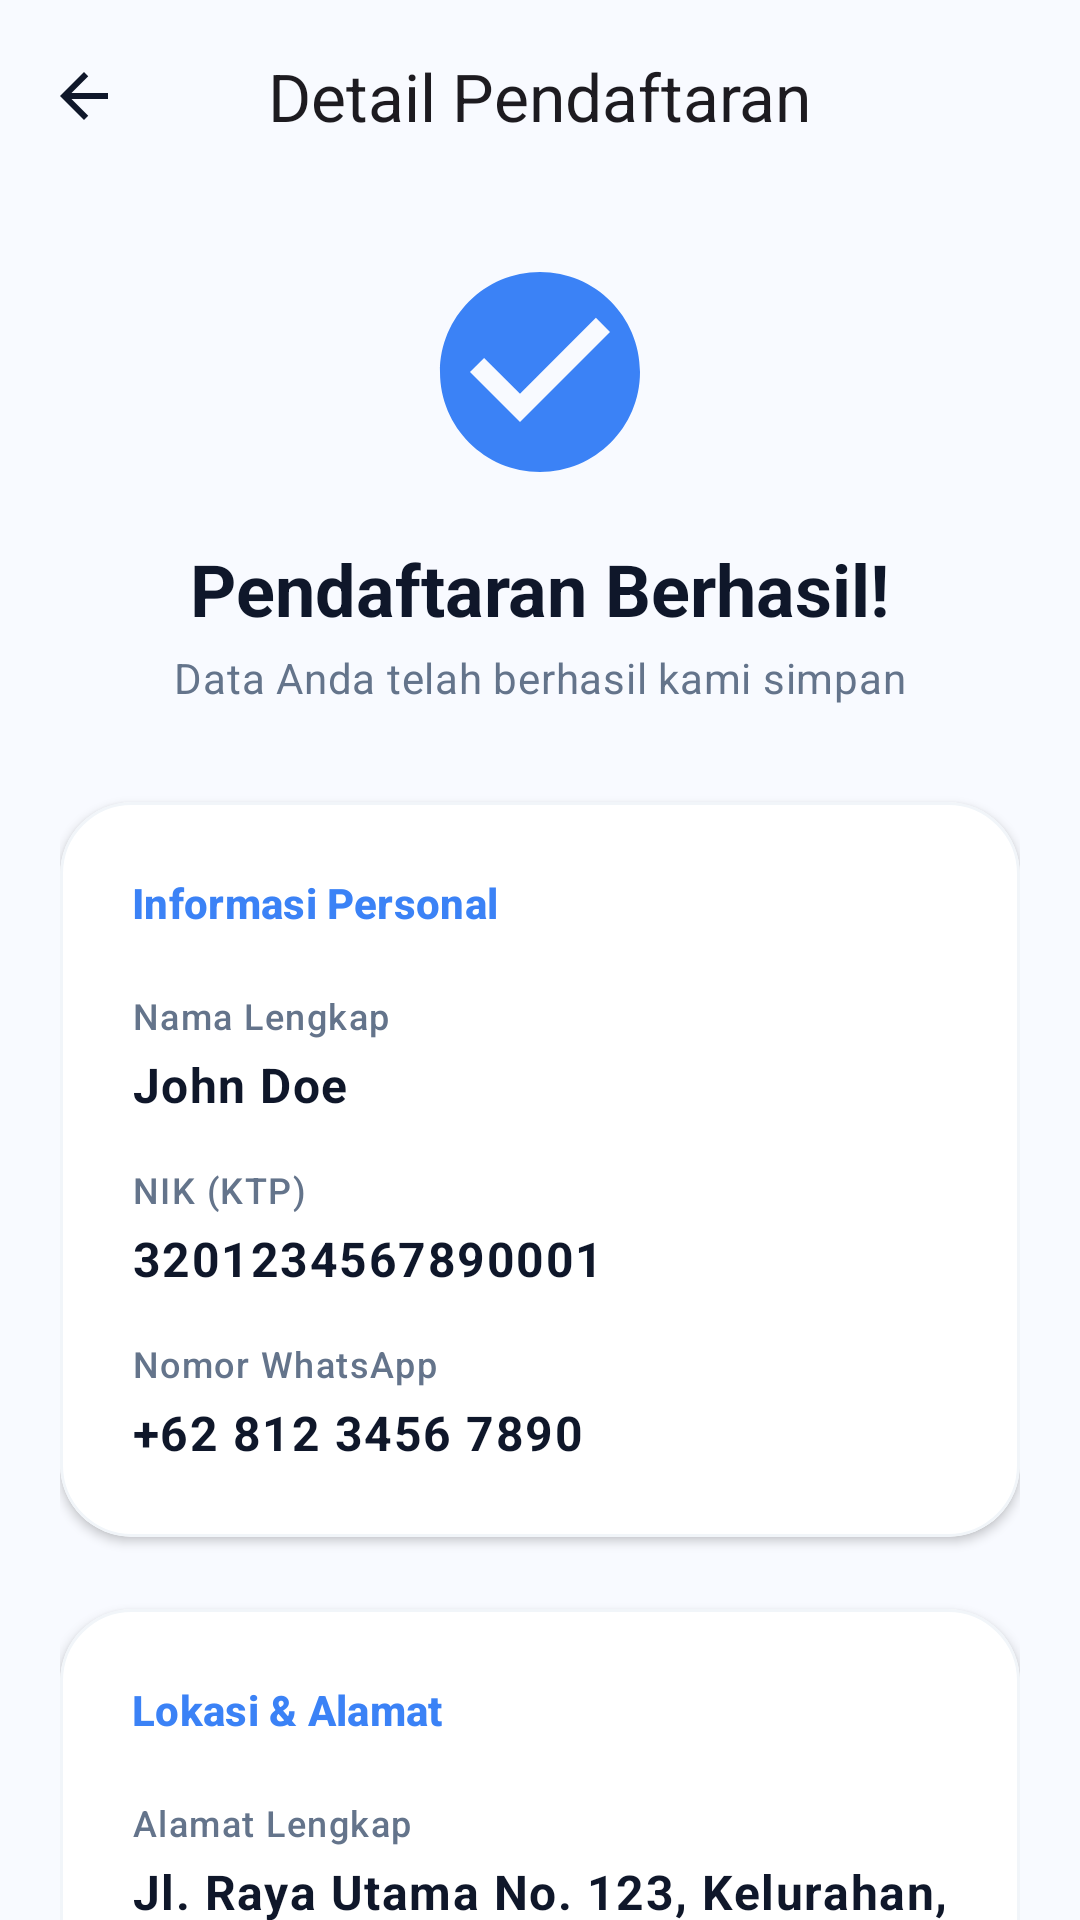

Icon bounding boxes for this 1080px×1920px phone screenshot, format (x1, y1, x2, y2):
check circle: (440, 272, 640, 472)
